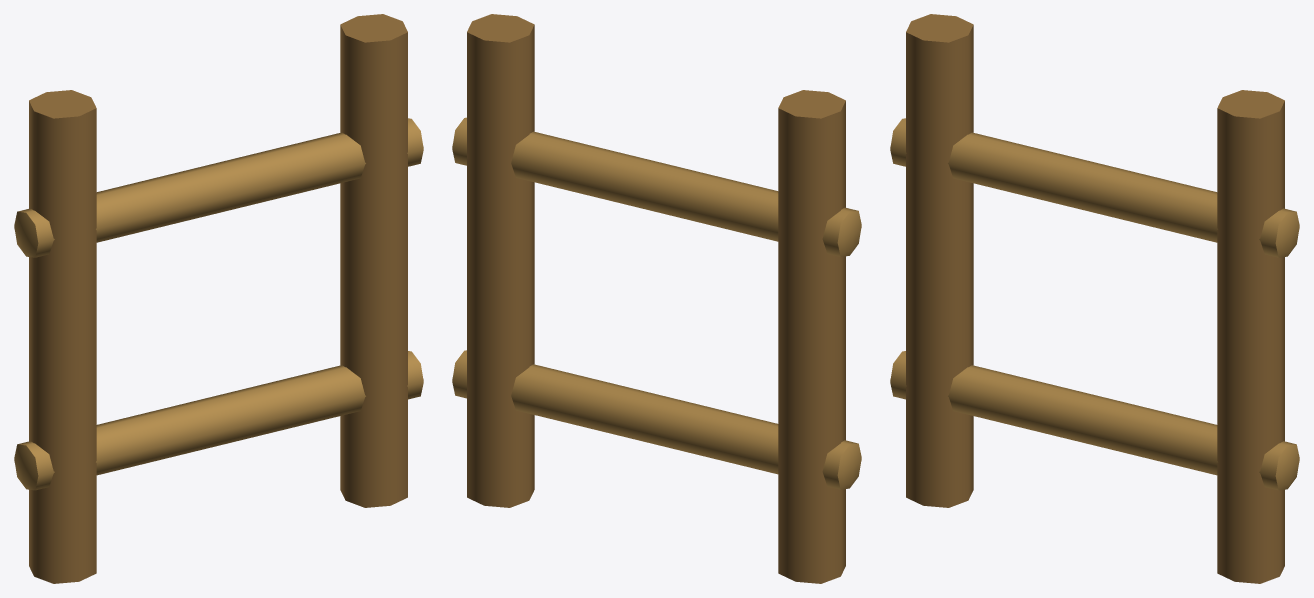
Rendered from quaternius-platformer-game-stairs.glb.
3 views of the same model, side by side, from view 1: azimuth 30°, elevation 25°; view 2: azimuth 150°, elevation 25°; view 3: azimuth 330°, elevation 25° (orthographic).
Parts seen in each view (by area): view 1: Stairs; view 2: Stairs; view 3: Stairs.
Boxes of the visible parts, <box> form: Stairs: <box>14,14,423,583</box>; Stairs: <box>452,14,861,583</box>; Stairs: <box>890,14,1299,583</box>.
Size of the model in its own units: 1.77 by 2 by 0.2576.
